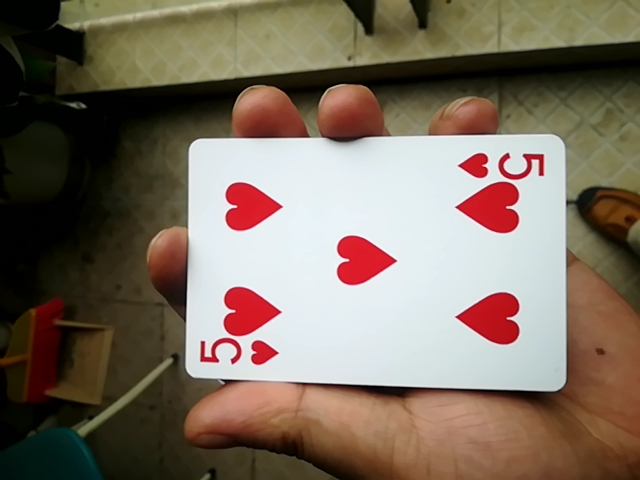hx 5: (169, 131, 566, 394)
